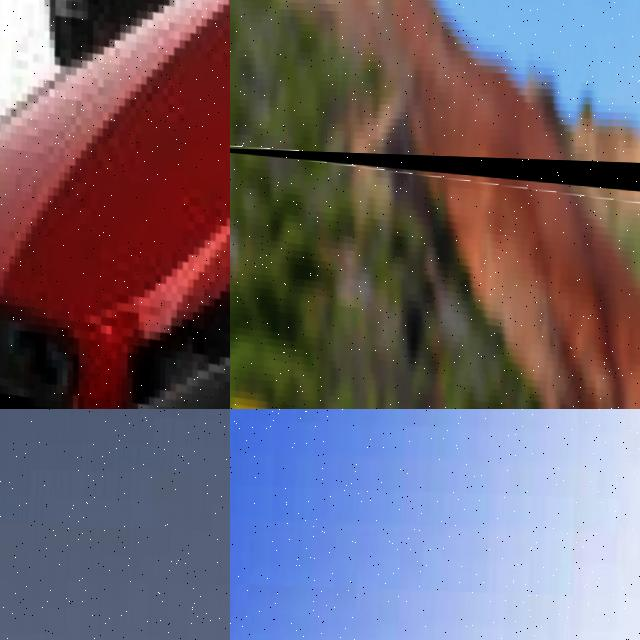drone: (230, 146, 640, 409), (0, 0, 230, 409)
